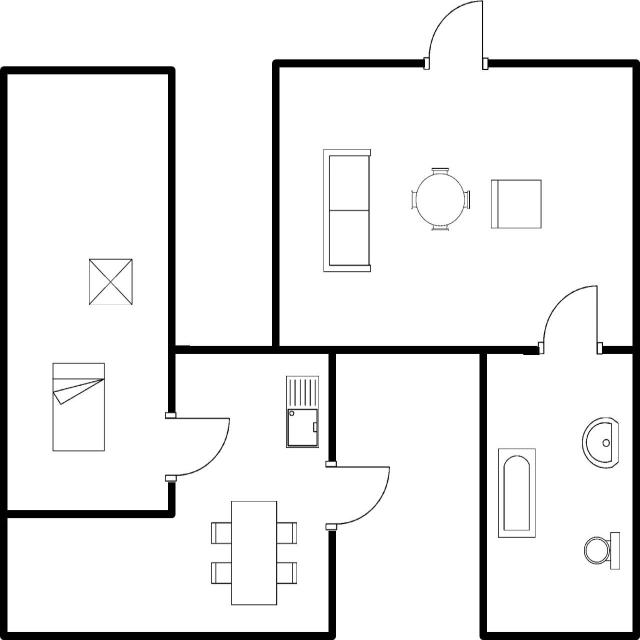bed: (50, 358, 108, 456)
coffee_table: (83, 252, 137, 310)
dining_table: (207, 496, 301, 610)
large_sink: (578, 528, 624, 574)
large_sofa: (318, 144, 376, 278)
round_table: (406, 161, 472, 239)
sink: (281, 371, 322, 452)
small_sink: (577, 413, 623, 472)
small_sofa: (484, 174, 547, 235)
tub: (492, 443, 540, 541)
